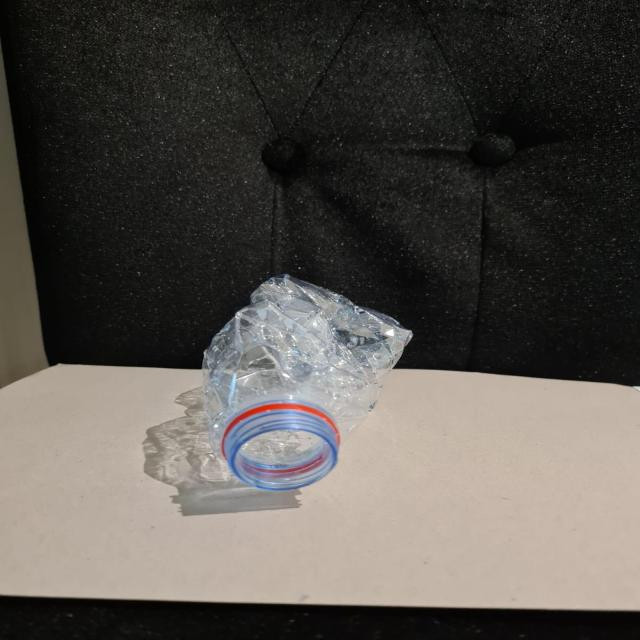bottle: (212, 272, 404, 486)
